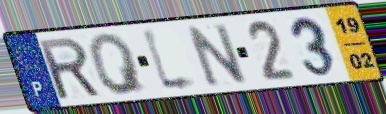2: (246, 19, 298, 83)
3: (289, 14, 344, 82)
L: (138, 24, 204, 95)
N: (183, 21, 251, 89)
Q: (86, 31, 150, 97)
R: (35, 35, 105, 102)
